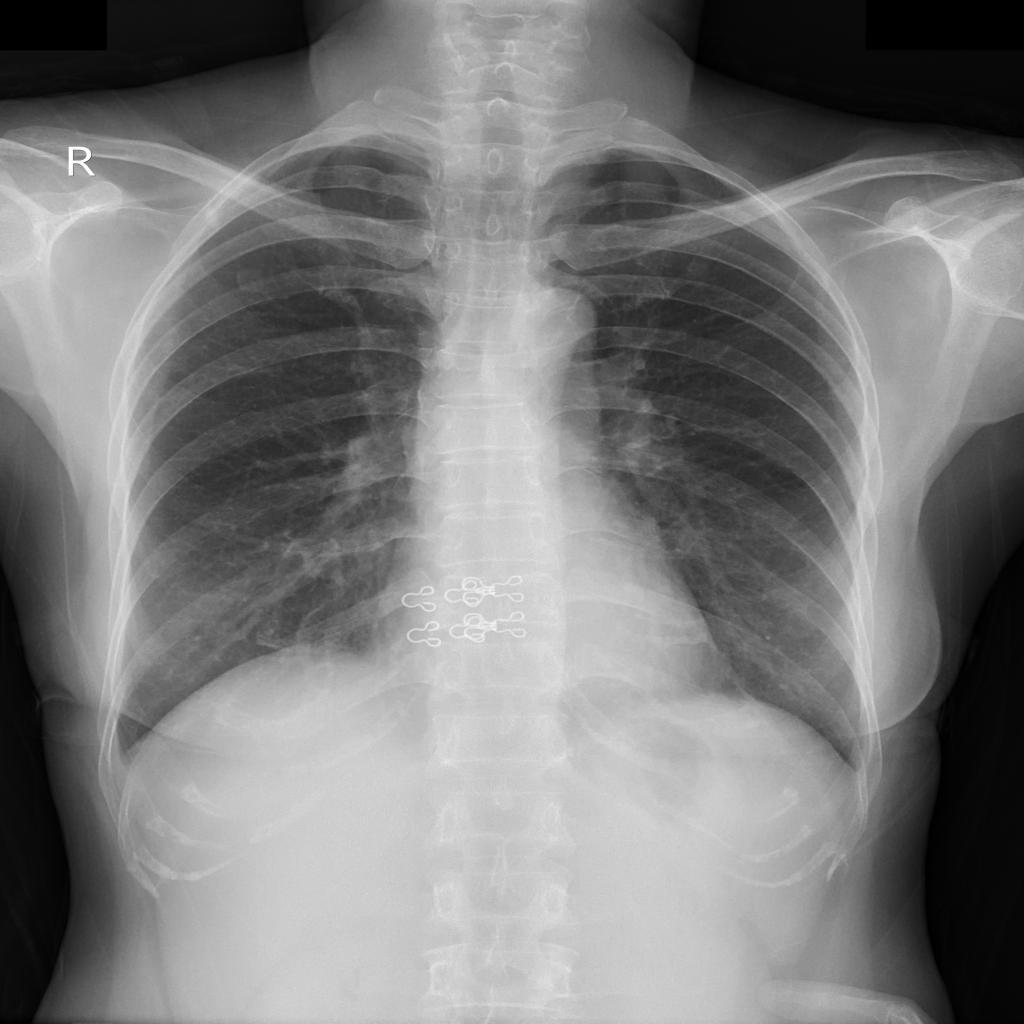Nodule: (778, 608, 819, 640), (204, 622, 239, 649), (683, 260, 712, 289), (234, 270, 267, 292)
